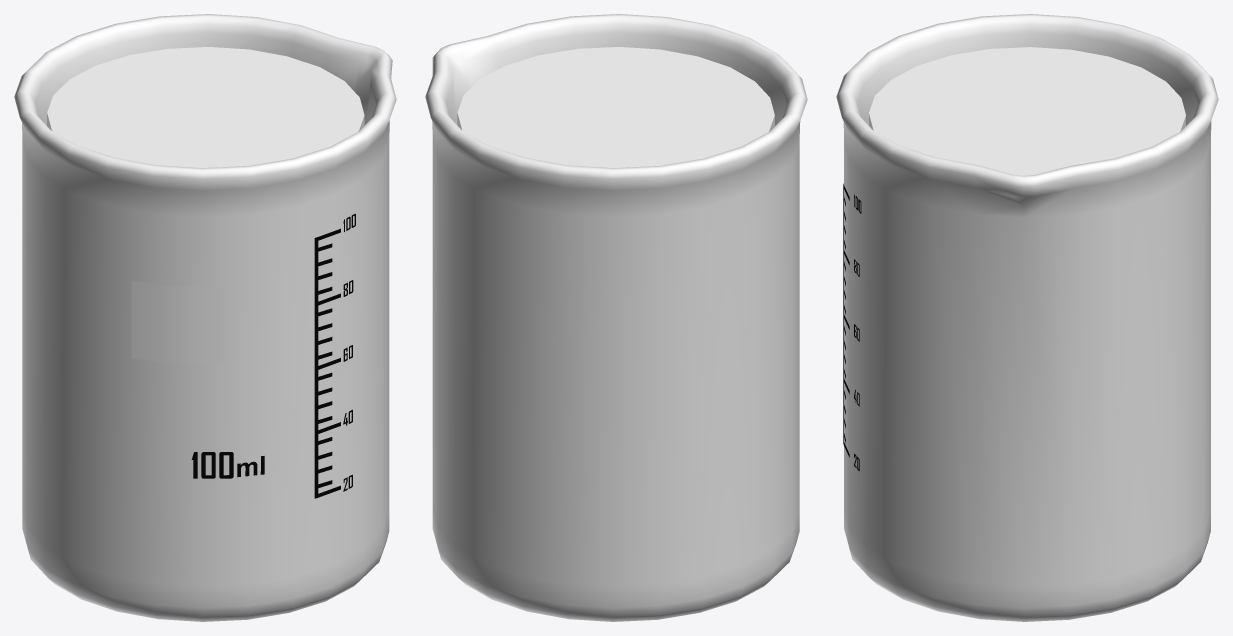
The model's file is beaker_100ml.fbx.
3 views of the same model, side by side, from view 1: azimuth 30°, elevation 25°; view 2: azimuth 150°, elevation 25°; view 3: azimuth 270°, elevation 25° (orthographic).
Parts seen in each view (by area): view 1: Base1, Cylinder, Sticker, Measurement5, ml; view 2: Base1, Cylinder; view 3: Base1, Cylinder, Measurement5.
Boxes of the visible parts, <box> form: Base1: <box>14,14,396,621</box>; Cylinder: <box>47,47,364,167</box>; Sticker: <box>131,281,224,364</box>; Measurement5: <box>314,213,355,498</box>; ml: <box>191,452,264,478</box>; Base1: <box>425,14,807,621</box>; Cylinder: <box>457,47,774,167</box>; Base1: <box>836,14,1218,621</box>; Cylinder: <box>869,47,1185,175</box>; Measurement5: <box>843,183,861,471</box>.
Bounding box in the file's own units: 10.48 × 13.25 × 9.99.
4 materials, 1 textured.
